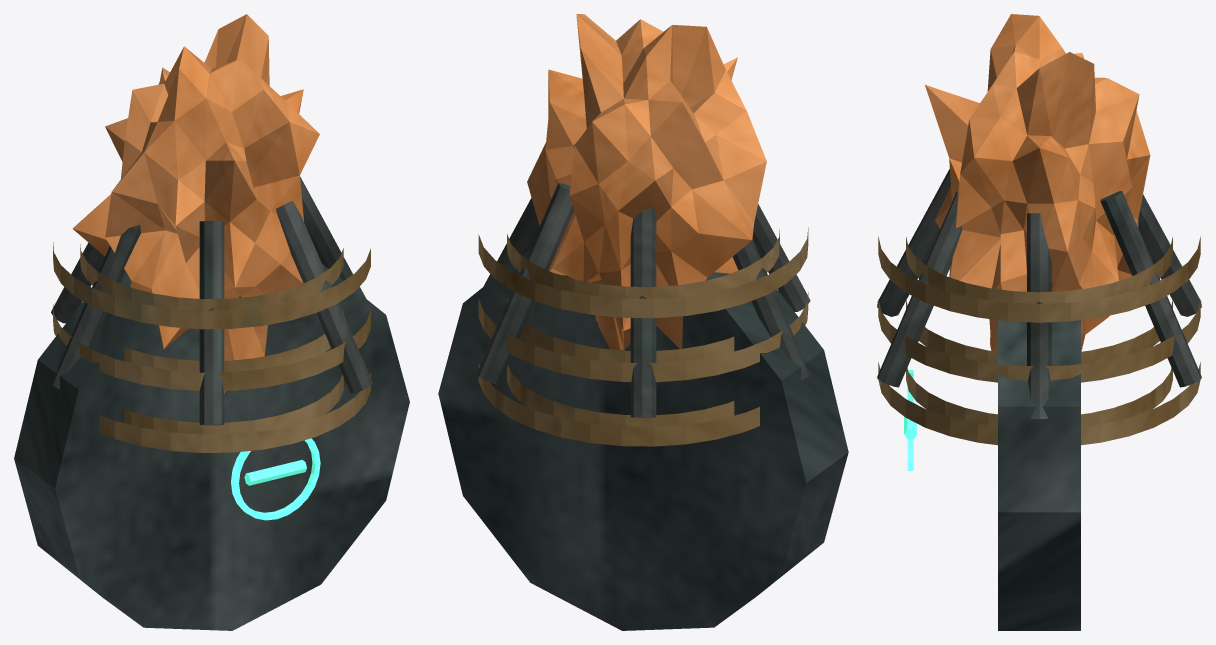
File: 0998_offering_relic_23.glb
3 renders of one model, left to right at view 1: azimuth 30°, elevation 25°; view 2: azimuth 150°, elevation 25°; view 3: azimuth 270°, elevation 25°, orthographic. The views are drawn at different scales.
Visible parts, largest first — view 1: stone_dark, amber, brass, iron, glow; view 2: stone_dark, amber, brass, iron; view 3: amber, brass, stone_dark, iron, glow.
Part boxes in pixels (x1=…): stone_dark: x1=14, y1=263, x2=409, y2=630; amber: x1=72, y1=14, x2=319, y2=393; brass: x1=53, y1=242, x2=370, y2=452; iron: x1=51, y1=176, x2=372, y2=425; glow: x1=231, y1=438, x2=320, y2=520; stone_dark: x1=438, y1=250, x2=848, y2=630; amber: x1=527, y1=14, x2=766, y2=350; brass: x1=478, y1=227, x2=808, y2=446; iron: x1=476, y1=183, x2=810, y2=417; amber: x1=925, y1=14, x2=1150, y2=351; brass: x1=878, y1=236, x2=1200, y2=445; stone_dark: x1=998, y1=320, x2=1080, y2=630; iron: x1=877, y1=168, x2=1201, y2=418; glow: x1=904, y1=370, x2=916, y2=470.
Size of the model in its own units: 0.9 by 1.4 by 0.7056.
5 materials, 5 textured.
